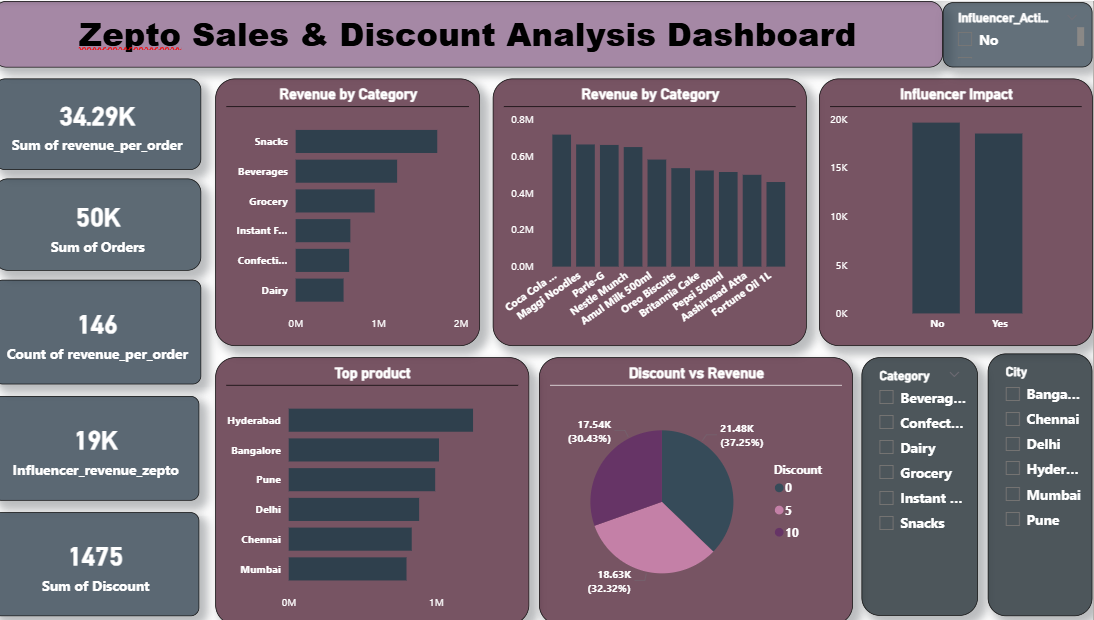

What the dashboard file says about the page in this screenshot:
{"tool":"powerbi","page":{"name":"Page 1","canvas":[1280,720],"ordinal":0},"visuals":[{"type":"textbox","box":[10.1,0,1096.5,76.5],"z":0},{"type":"card","fields":{"Values":["Sum(zepto_sales_dataset.revenue_per_order)"]},"box":[11.4,89.6,238.9,105.2],"z":1000},{"type":"card","fields":{"Values":["Sum(zepto_sales_dataset.Orders)"]},"box":[11.4,204.8,238.9,106.7],"z":2000},{"type":"card","fields":{"Values":["Count(zepto_sales_dataset.revenue_per_order)"]},"box":[11.4,321.4,238.9,120.9],"z":3000},{"type":"card","fields":{"Values":["zepto_sales_dataset.Influencer_revenue_zepto"]},"box":[10.1,455.9,238.1,121.2],"z":4000},{"type":"card","fields":{"Values":["Sum(zepto_sales_dataset.Discount)"]},"box":[10.1,590.1,238.1,119.7],"z":5000},{"type":"barChart","title":"Revenue by Category","fields":{"Y":["Sum(zepto_sales_dataset.Total_Revenue)"],"Category":["zepto_sales_dataset.Category"]},"box":[266.9,89.5,305.9,308.8],"z":5001},{"type":"columnChart","title":"Revenue by Category","fields":{"Y":["Sum(zepto_sales_dataset.Total_Revenue)"],"Category":["zepto_sales_dataset.Product_Name"]},"box":[587.2,89.5,362.1,308.8],"z":5002},{"type":"barChart","title":"Top product","fields":{"Y":["Sum(zepto_sales_dataset.Total_Revenue)"],"Category":["zepto_sales_dataset.City"]},"box":[266.9,411.2,362.1,308.8],"z":5003},{"type":"pieChart","title":"Discount vs Revenue","fields":{"Y":["Avg(zepto_sales_dataset.Total_Revenue)"],"Category":["zepto_sales_dataset.Discount"]},"box":[640.6,411.2,362.1,308.8],"z":5004},{"type":"columnChart","title":"Influencer Impact","fields":{"Category":["zepto_sales_dataset.Influencer_Active"],"Y":["Avg(zepto_sales_dataset.Total_Revenue)"]},"box":[963.8,89.5,316,308.8],"z":5005},{"type":"slicer","fields":{"Values":["zepto_sales_dataset.Category"]},"box":[1012.8,411.2,134.2,298.7],"z":5006},{"type":"slicer","fields":{"Values":["zepto_sales_dataset.City"]},"box":[1158.5,406.9,121.2,303],"z":5007},{"type":"slicer","fields":{"Values":["zepto_sales_dataset.Influencer_Active"]},"box":[1106.6,1.4,173.1,75],"z":5008}]}

Visuals, with their boxes in screenshot pixels (x1, y1, x2, y2), scaled from the page's 1280x720 canvas onto the 1094x620 screenshot:
textbox: 9:0:946:66
card - Sum(zepto_sales_dataset.revenue_per_order): 10:77:214:168
card - Sum(zepto_sales_dataset.Orders): 10:176:214:268
card - Count(zepto_sales_dataset.revenue_per_order): 10:277:214:381
card - zepto_sales_dataset.Influencer_revenue_zepto: 9:393:212:497
card - Sum(zepto_sales_dataset.Discount): 9:508:212:611
"Revenue by Category" barChart: 228:77:490:343
"Revenue by Category" columnChart: 502:77:811:343
"Top product" barChart: 228:354:538:619
"Discount vs Revenue" pieChart: 548:354:857:619
"Influencer Impact" columnChart: 824:77:1093:343
slicer - zepto_sales_dataset.Category: 866:354:980:611
slicer - zepto_sales_dataset.City: 990:350:1093:611
slicer - zepto_sales_dataset.Influencer_Active: 946:1:1093:66
